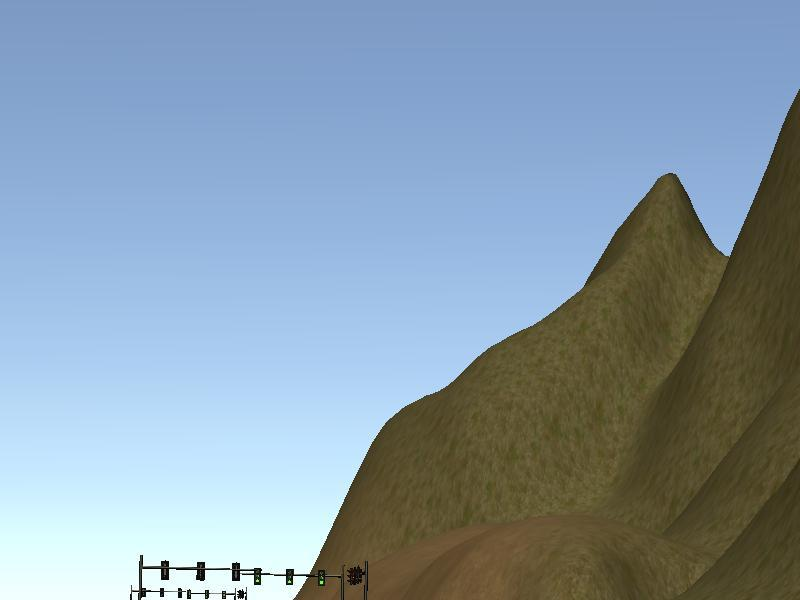Green: (253, 567, 262, 587), (318, 569, 326, 587), (285, 567, 292, 586)
